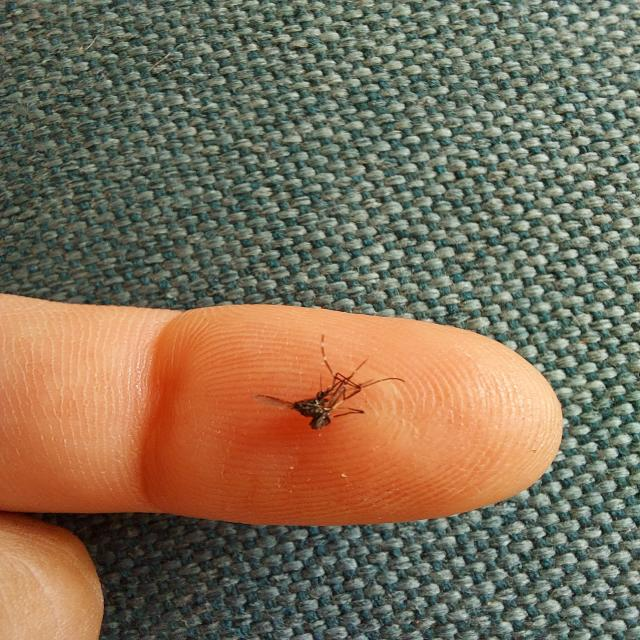albopictus: (254, 339, 405, 429)
